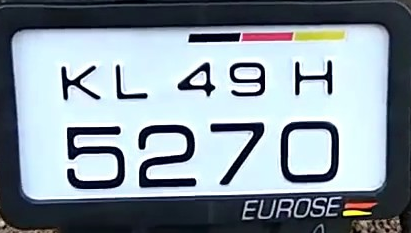0: (279, 119, 344, 183)
2: (138, 124, 201, 190)
4: (175, 61, 219, 98)
5: (62, 124, 128, 191)
7: (207, 121, 266, 185)
9: (229, 61, 268, 100)
H: (291, 60, 336, 95)
K: (60, 62, 105, 103)
L: (111, 62, 150, 102)
